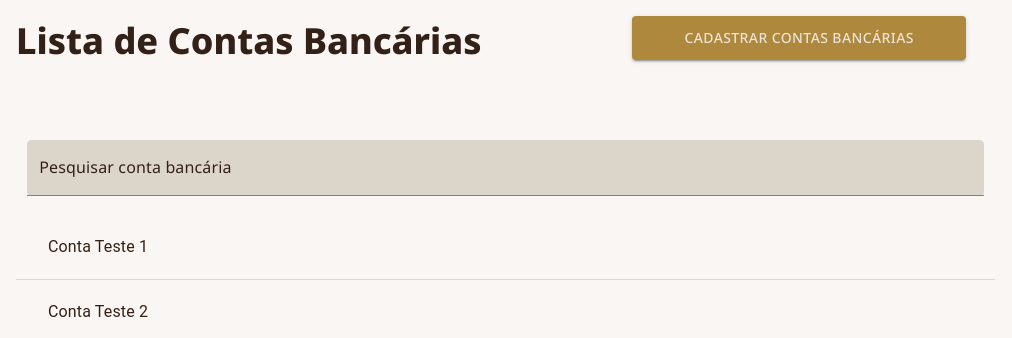
Test case: ListBankAccount › filters bank accounts based on search input
The image size is (1012, 338).
Expected: the text "Conta Teste 1" is shown, [48,237,148,256]
Expected: the text "Conta Teste 2" is shown, [48,302,148,321]
Note: Preenche o campo de busca e verifica o filtro
Type "1" into the field labelled "Pesquisar conta bancária" at (506, 168), box [27,140,984,196]
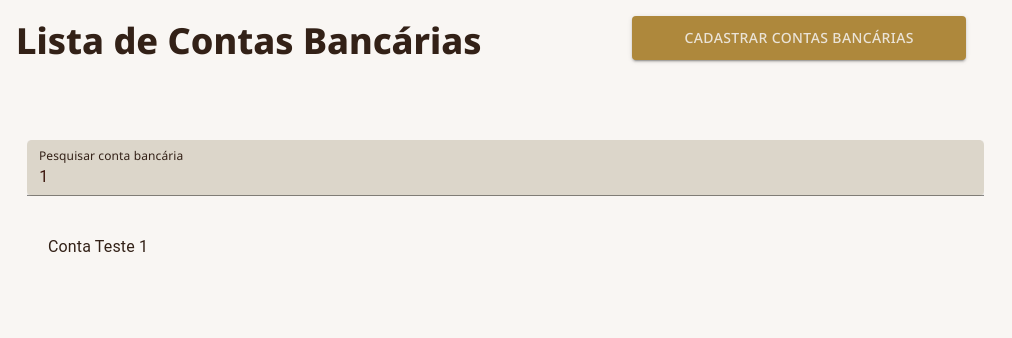
Expected: the text "Conta Teste 1" is shown, [48,237,148,256]
Now the button "Conta Teste 2" is gone
